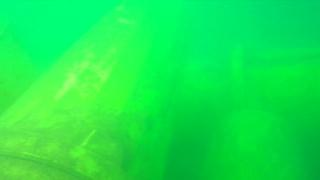pipe: (1, 1, 206, 180), (171, 44, 320, 143), (199, 109, 307, 180)
